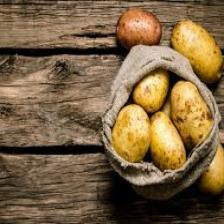Diseased-fungal potato: (170, 13, 224, 86), (108, 96, 155, 168), (109, 7, 164, 56), (149, 109, 187, 173)
